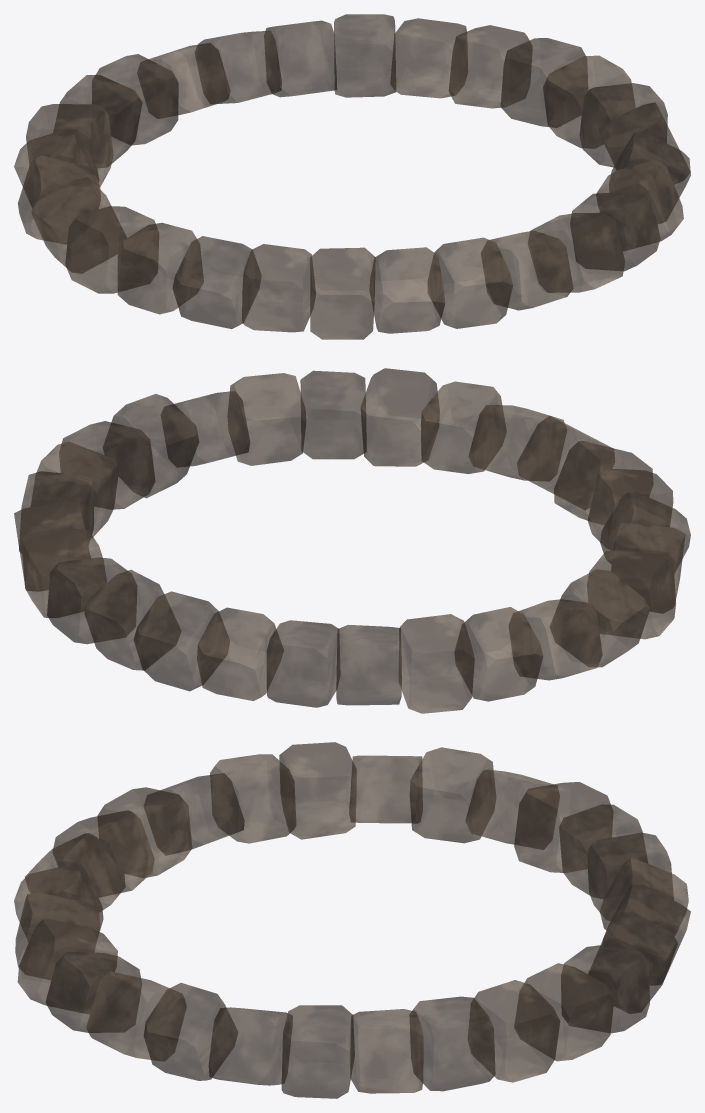
Rendered from standard.glb.
The picture shows the model from 3 angles, top to bottom: view 1: azimuth 30°, elevation 25°; view 2: azimuth 150°, elevation 25°; view 3: azimuth 270°, elevation 25°; orthographic projection. The views are drawn at different scales.
Visible parts, largest first — view 1: facet_kostka_2.003, facet_kostka_1, facet_kostka_3.003, facet_kostka_2.005, facet_kostka_0.004, facet_kostka_0.005, facet_kostka_0, facet_kostka_0.002, facet_kostka_2, facet_kostka_1.005, facet_kostka_2.004, facet_kostka_1.004 (+16 smaller); view 2: facet_kostka_2.001, facet_kostka_2.006, facet_kostka_1.001, facet_kostka_2.005, facet_kostka_1.003, facet_kostka_2.002, facet_kostka_1.005, facet_kostka_3.002, facet_kostka_0.003, facet_kostka_2.003, facet_kostka_3.001, facet_kostka_0.001 (+16 smaller); view 3: facet_kostka_3, facet_kostka_2, facet_kostka_2.002, facet_kostka_1, facet_kostka_0.003, facet_kostka_1.006, facet_kostka_1.004, facet_kostka_0.006, facet_kostka_2.003, facet_kostka_2.005, facet_kostka_3.003, facet_kostka_0.001 (+16 smaller).
Boxes of the visible parts, <box> form: facet_kostka_2.003: <box>65,206,158,293</box>; facet_kostka_1: <box>500,38,587,127</box>; facet_kostka_3.003: <box>117,222,203,314</box>; facet_kostka_2.005: <box>528,212,625,292</box>; facet_kostka_0.004: <box>172,236,260,329</box>; facet_kostka_0.005: <box>428,237,512,328</box>; facet_kostka_0: <box>543,55,635,148</box>; facet_kostka_0.002: <box>92,54,178,145</box>; facet_kostka_2: <box>448,25,531,108</box>; facet_kostka_1.005: <box>481,230,573,310</box>; facet_kostka_2.004: <box>310,247,375,339</box>; facet_kostka_1.004: <box>242,244,315,332</box>; facet_kostka_2.001: <box>133,591,229,691</box>; facet_kostka_2.006: <box>103,394,199,498</box>; facet_kostka_1.001: <box>84,569,180,670</box>; facet_kostka_2.005: <box>360,368,439,466</box>; facet_kostka_1.003: <box>550,569,649,667</box>; facet_kostka_2.002: <box>399,614,474,713</box>; facet_kostka_1.005: <box>421,381,506,473</box>; facet_kostka_3.002: <box>454,607,543,701</box>; facet_kostka_0.003: <box>509,599,602,680</box>; facet_kostka_2.003: <box>587,550,676,639</box>; facet_kostka_3.001: <box>197,607,283,700</box>; facet_kostka_0.001: <box>47,557,136,644</box>; facet_kostka_3: <box>514,963,614,1061</box>; facet_kostka_2: <box>468,980,560,1082</box>; facet_kostka_2.002: <box>514,782,612,872</box>; facet_kostka_1: <box>409,996,495,1091</box>; facet_kostka_0.003: <box>409,747,495,843</box>; facet_kostka_1.006: <box>143,982,237,1080</box>; facet_kostka_1.004: <box>97,787,191,877</box>; facet_kostka_0.006: <box>86,971,186,1060</box>; facet_kostka_2.003: <box>279,742,356,839</box>; facet_kostka_2.005: <box>17,919,117,1013</box>; facet_kostka_3.003: <box>210,754,296,843</box>; facet_kostka_0.001: <box>561,945,649,1033</box>.
Size of the model in its own units: 6.4 by 0.8527 by 6.13.
3 materials, 3 textured.
